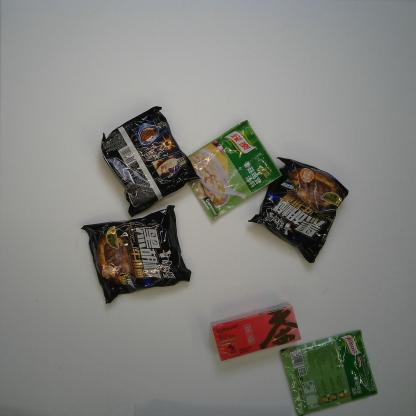Instant Drink: (210, 302, 301, 362)
Instant Noodles: (102, 102, 200, 219), (246, 156, 350, 264), (80, 204, 192, 304)
Seasoner: (180, 119, 283, 223), (279, 328, 378, 416)
